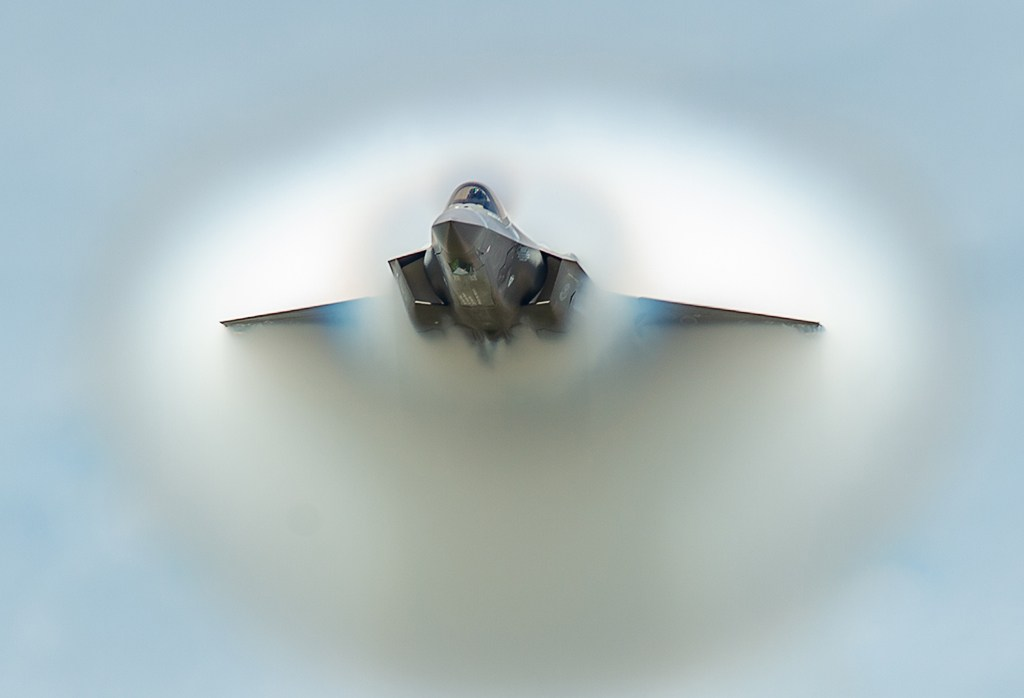F-35 Lightning: (202, 134, 879, 443)
